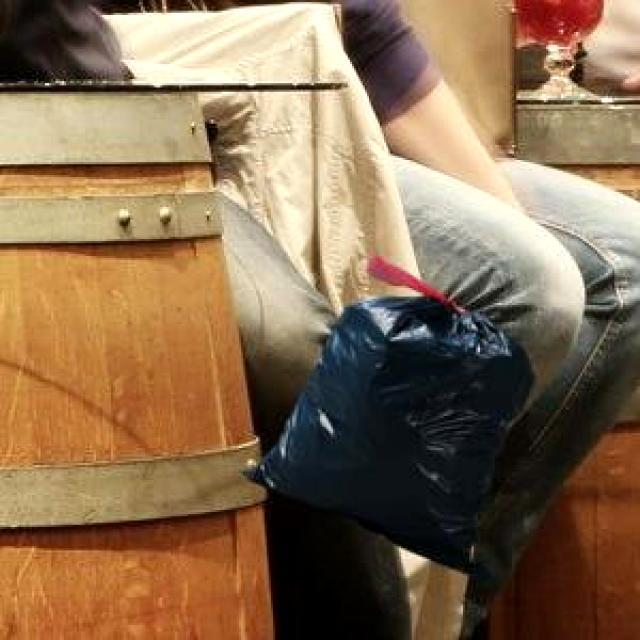Garbage_Bag: (240, 250, 532, 578)
